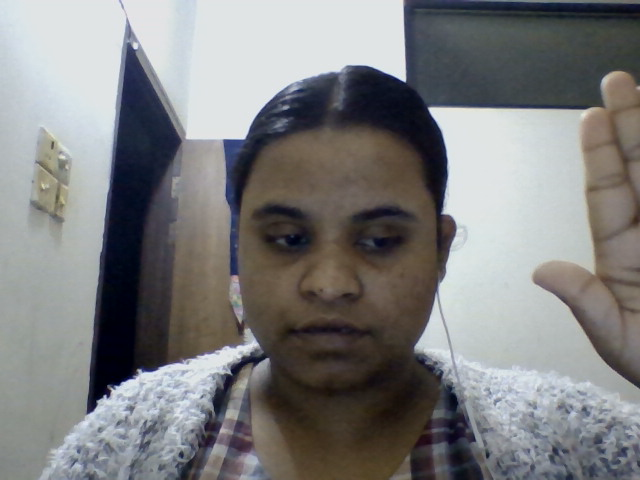hello: (508, 54, 640, 401)
